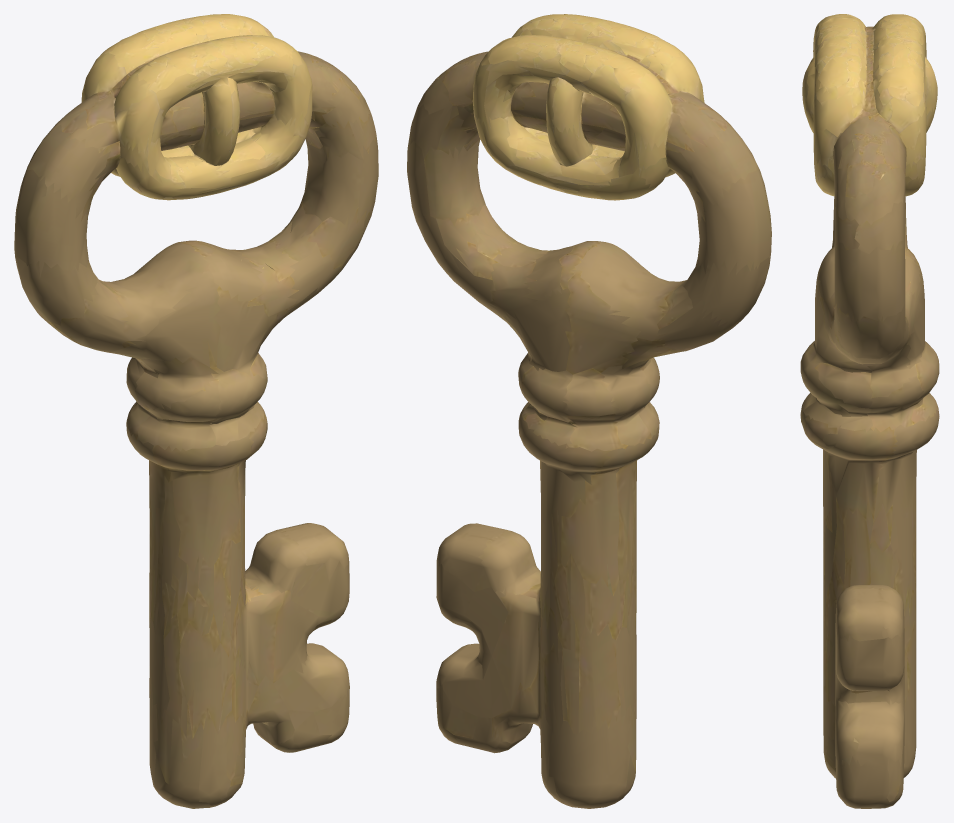
Rendered from key-t2-v1.glb.
3 views of the same model, side by side, from view 1: azimuth 30°, elevation 25°; view 2: azimuth 150°, elevation 25°; view 3: azimuth 270°, elevation 25° (orthographic). The views are drawn at different scales.
Parts seen in each view (by area): view 1: mesh_node; view 2: mesh_node; view 3: mesh_node.
Boxes of the visible parts, left/top/right/bottom form: mesh_node: left=14, top=14, right=378, bottom=808; mesh_node: left=407, top=14, right=771, bottom=808; mesh_node: left=800, top=14, right=939, bottom=808.
Bounding box in the file's own units: 0.9146 × 1.9 × 0.3208.
1 material, 1 textured.
